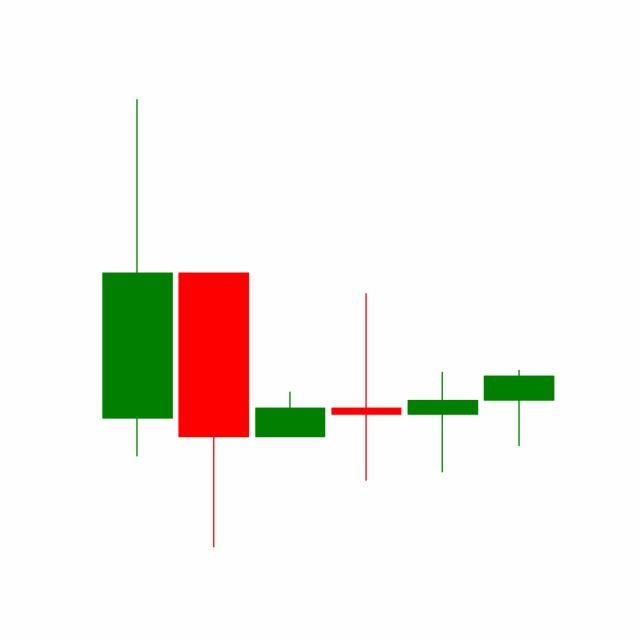Spinning Top: (404, 370, 482, 475)
